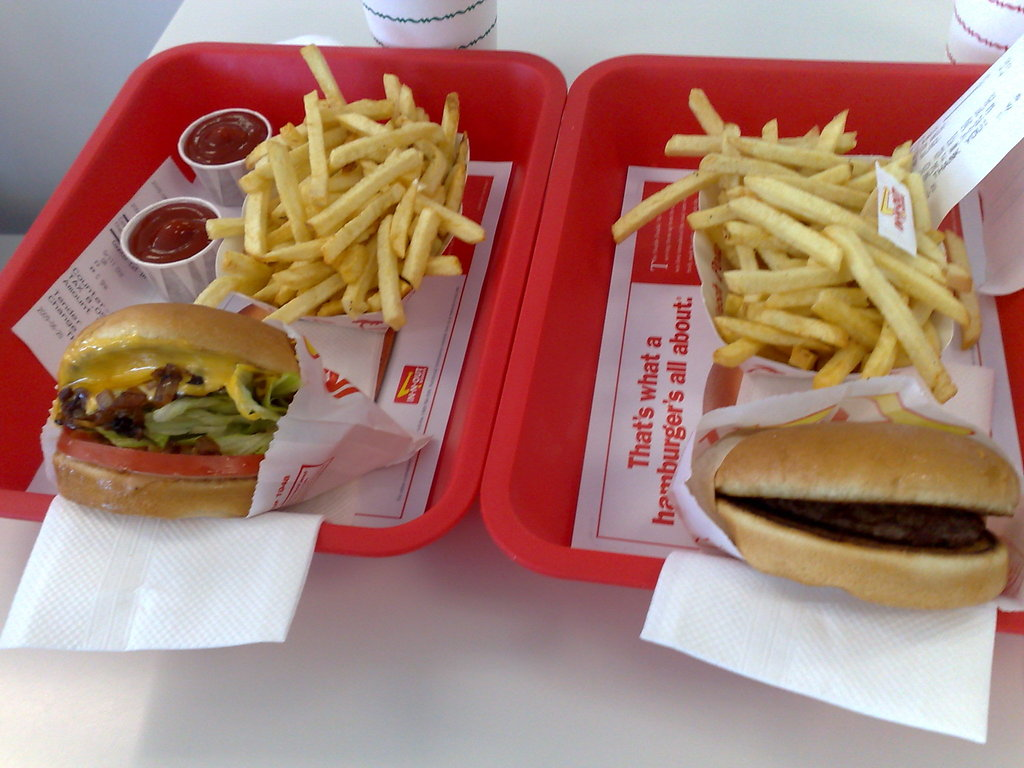French fries: (614, 85, 979, 404), (202, 42, 490, 328)
